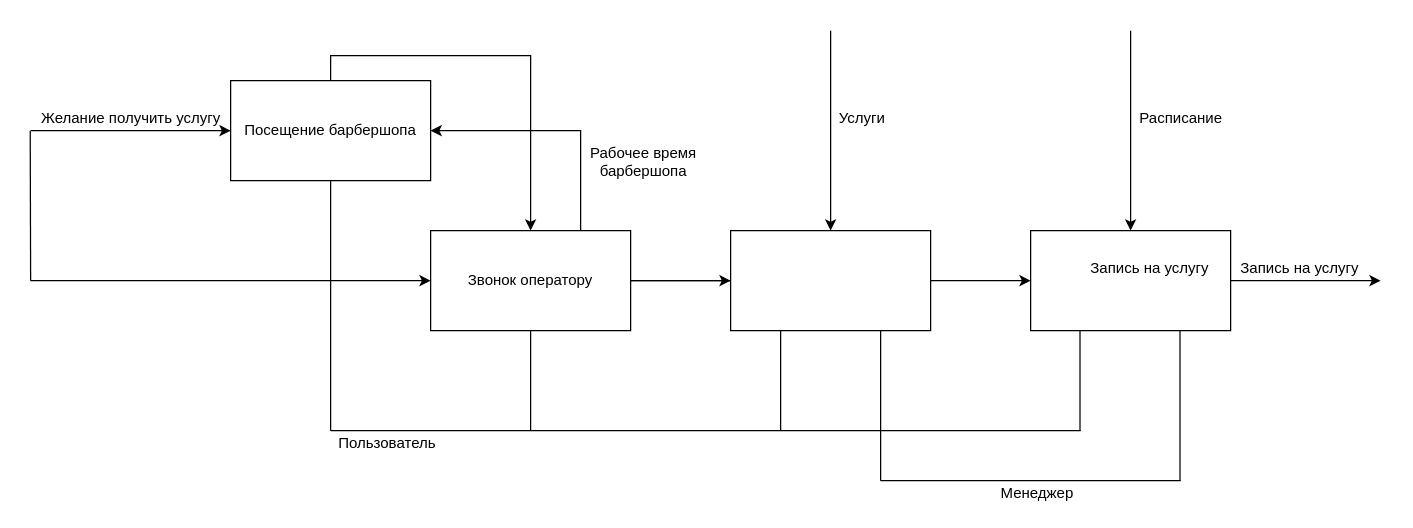
The diagram is 1413 pixels wide and 528 high, and some of its shapes have lost their labels. The box of each missing label's shape, as (x1, y1, x2, y2) in pixels:
Согласование времени: (1029, 229, 1231, 331)
Согласование услуги: (729, 229, 931, 331)
